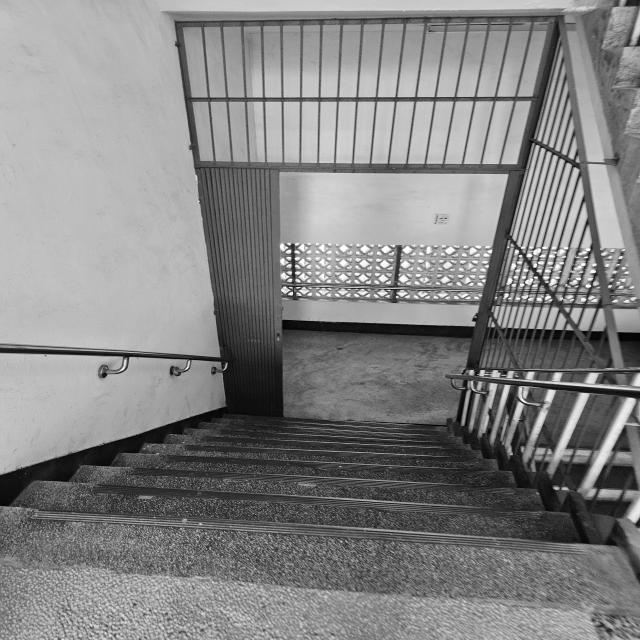floor: (0, 415, 639, 616)
